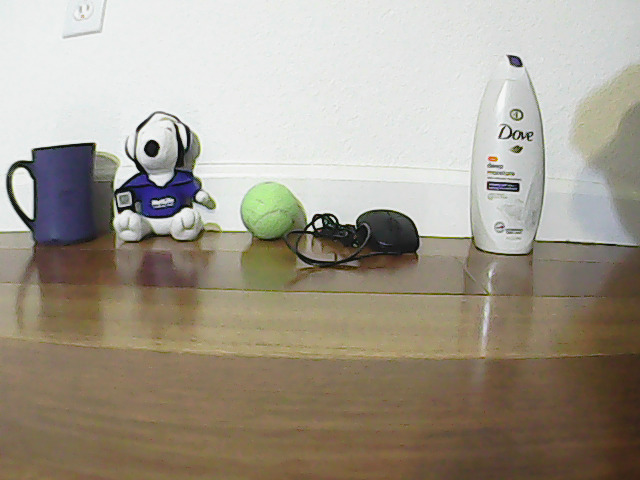ball: (244, 170, 308, 245)
mouse: (348, 196, 430, 260)
mug: (11, 135, 104, 244)
snoopy: (113, 110, 219, 241)
soap: (486, 41, 546, 254)
